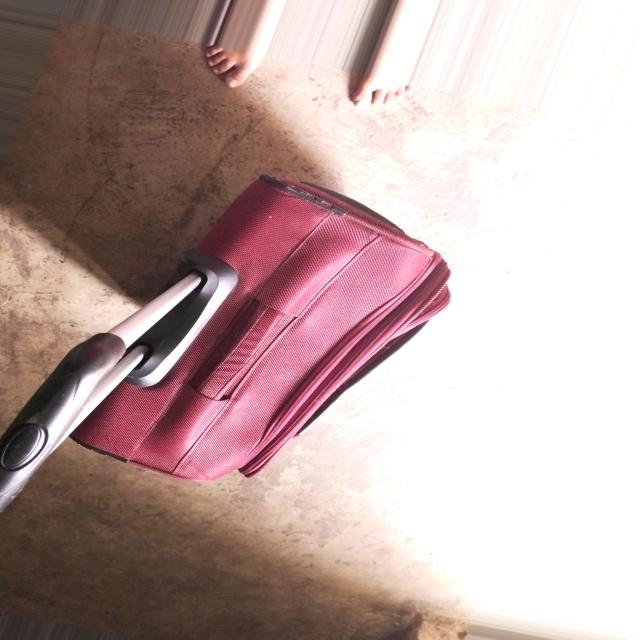Bag: (0, 143, 476, 538)
Handle: (0, 254, 227, 540)
